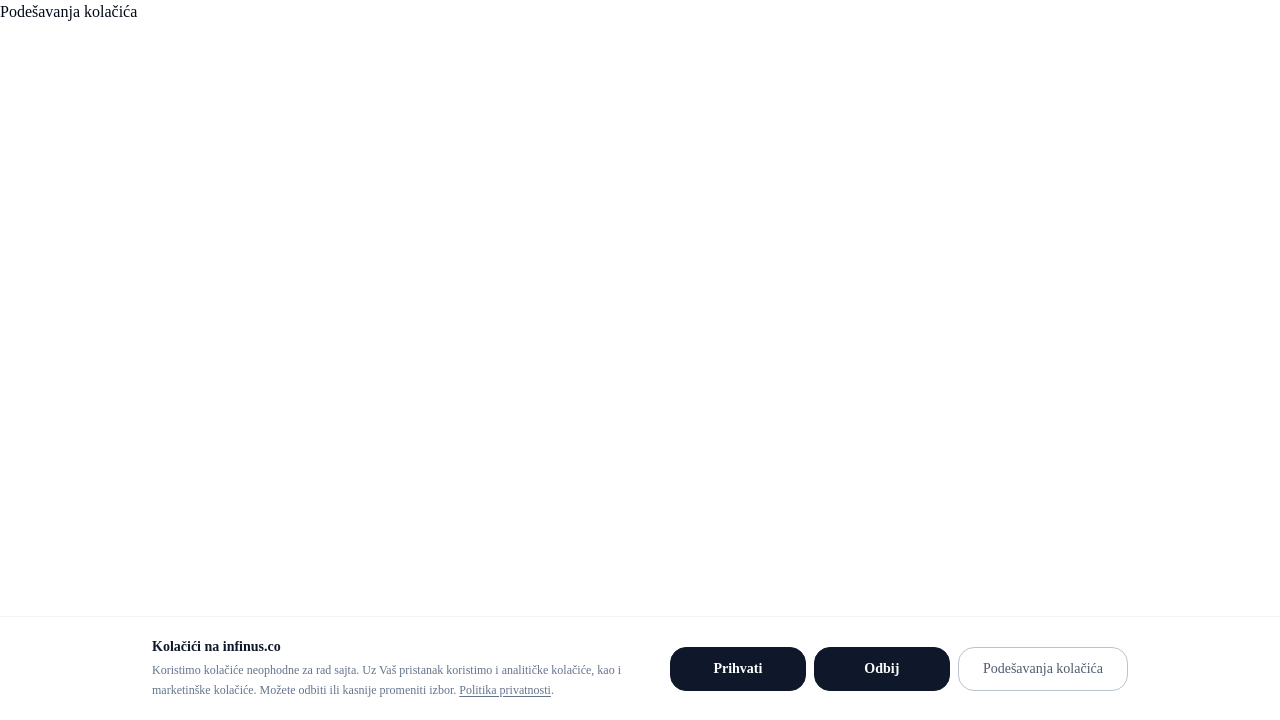
Scenario: C. one implementation, rendered in whichever language it is given › the settings dialog is fully localised, accessible names included
Click the button with test id "cookie-settings-open": (1043, 668) x1=958 y1=646 x2=1128 y2=690
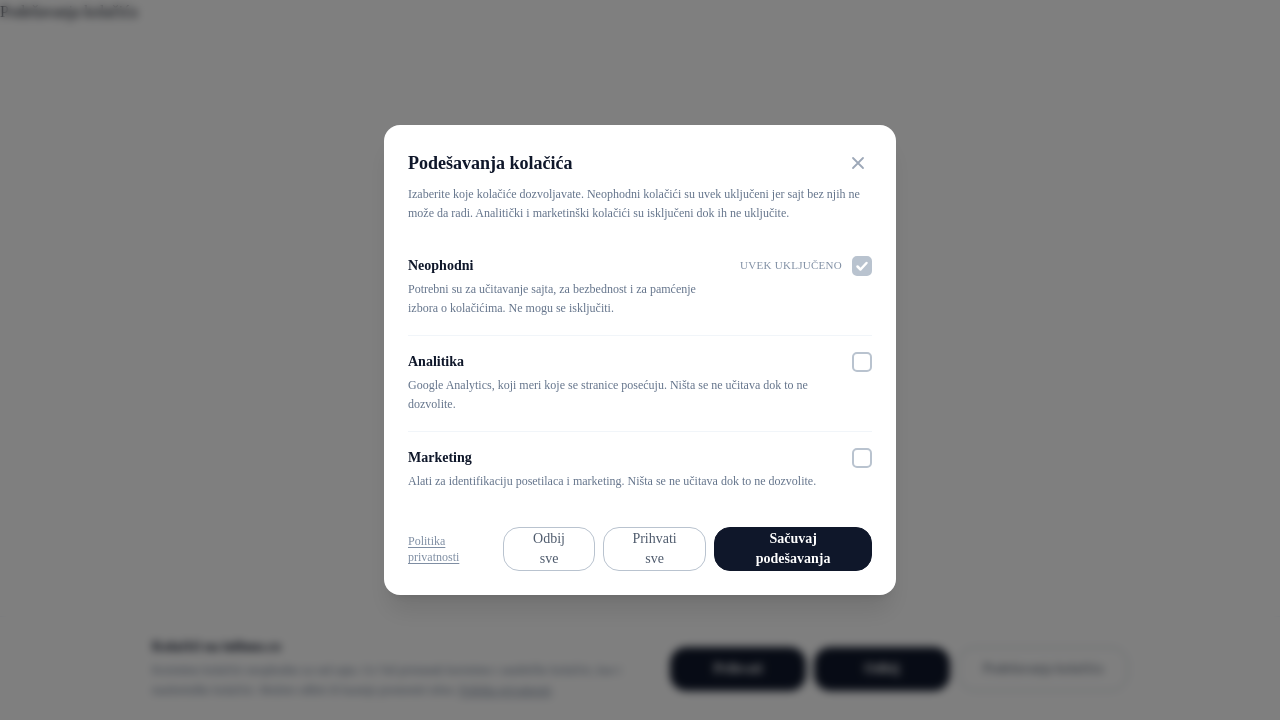
Expected: the dialog with test id "cookie-settings-dialog" shows "Podešavanja kolačića", x1=408 y1=153 x2=572 y2=173
Expected: the dialog with test id "cookie-settings-dialog" shows "Izaberite koje kolačiće dozvoljavate. Neophodni kolačići su uvek uključeni jer sajt bez njih ne može da radi. Analitički i marketinški kolačići su isključeni do", x1=408 y1=187 x2=860 y2=220
Expected: the dialog with test id "cookie-settings-dialog" shows "Sačuvaj podešavanja", x1=714 y1=527 x2=872 y2=571
